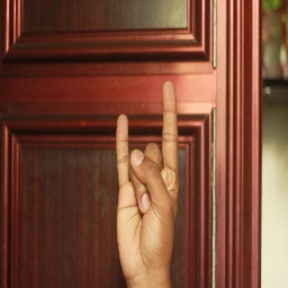V: (111, 76, 183, 277)
